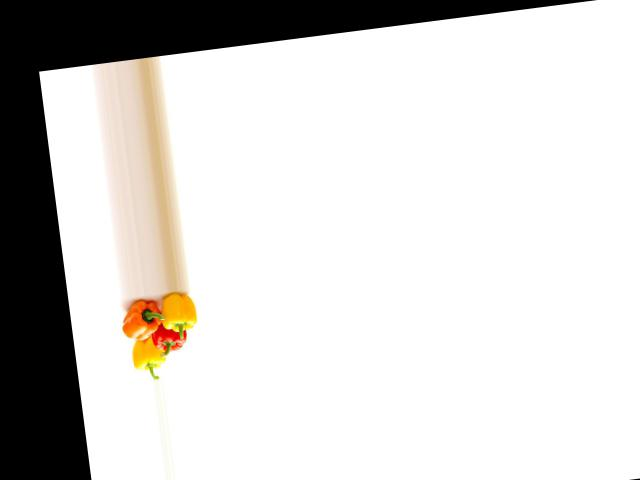bell_pepper: (148, 290, 200, 341)
